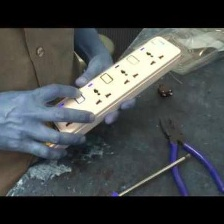three_eye_plug: (28, 34, 184, 158)
